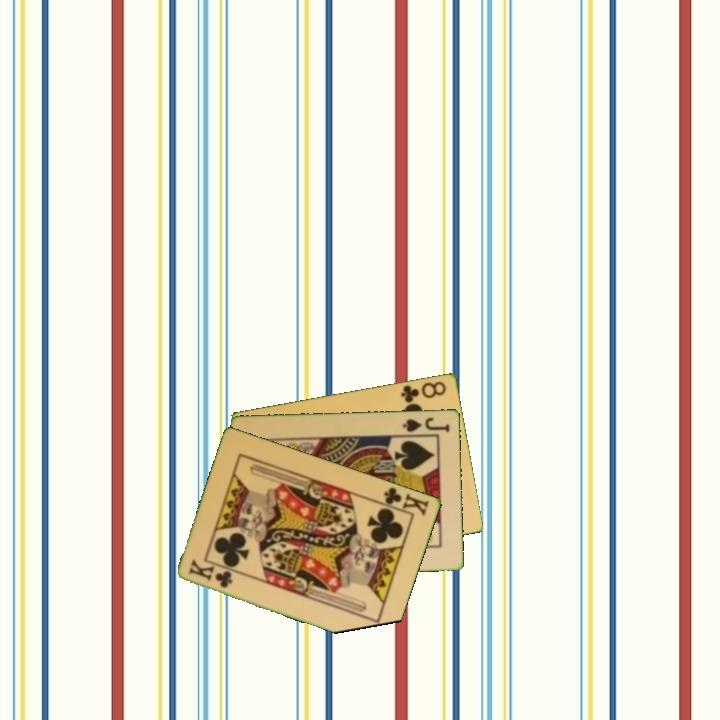8c: (397, 377, 449, 406)
Js: (399, 414, 452, 435)
Kc: (376, 483, 432, 519), (185, 556, 236, 591)
